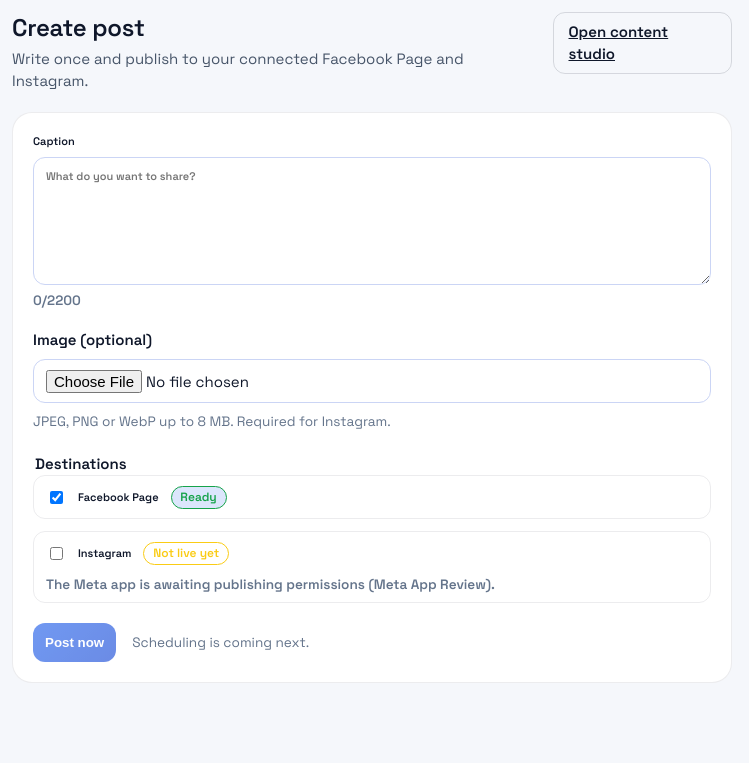
Test: QuickComposer › requires an image when Instagram is selected
The image size is (749, 763).
In the text box with placeholder "What do you want to share?": coordinates (372, 221) left=33, top=157, right=711, bottom=285, type "IG post"
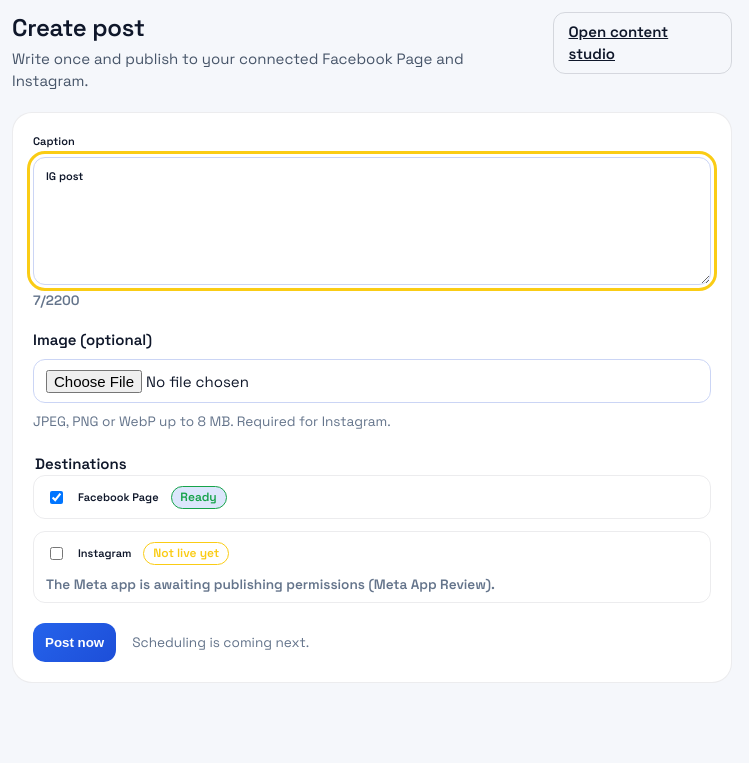
Click the checkbox labelled "Instagram": coordinates (56, 553) left=50, top=547, right=63, bottom=560
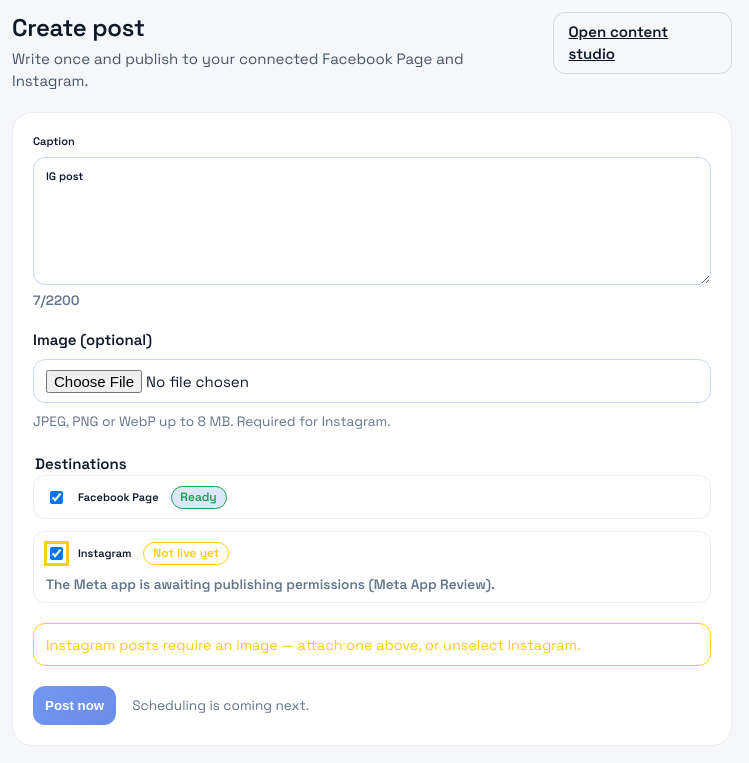
expect the text "Instagram posts require an image — attach one above, or unselect Instagram." is shown: met, box left=33, top=623, right=711, bottom=666
expect the button "Post now" is disabled: met, box left=33, top=686, right=116, bottom=725
